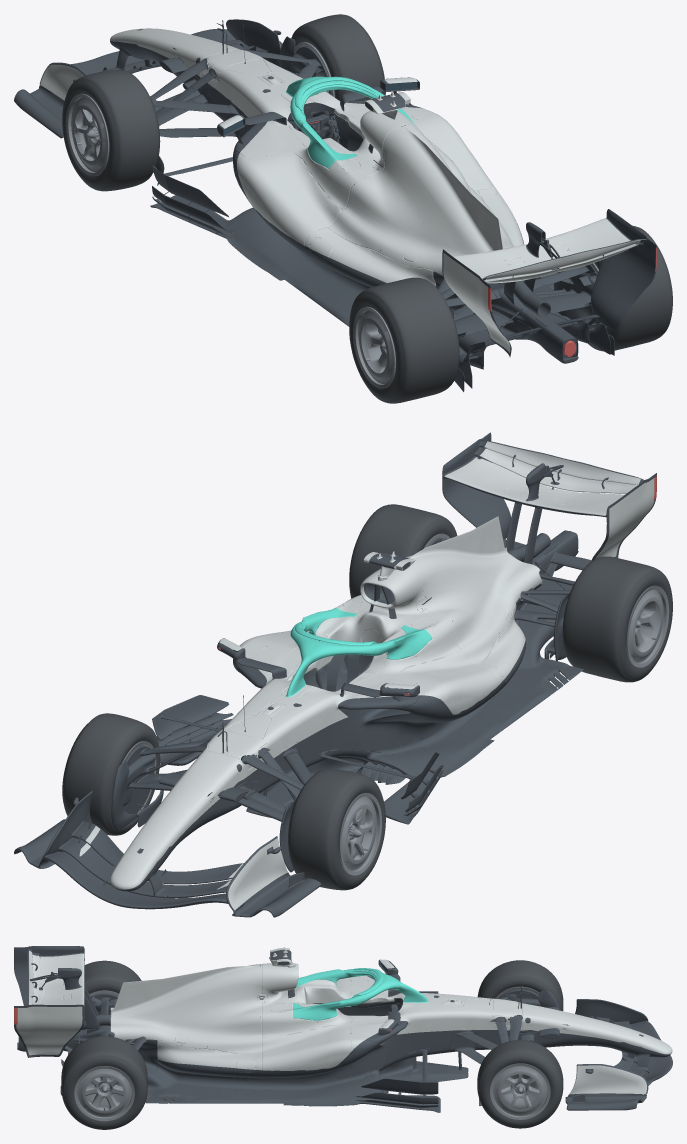
The model's file is mercedes-medium.glb.
3 views of the same model, one above another, from view 1: azimuth 30°, elevation 25°; view 2: azimuth 150°, elevation 25°; view 3: azimuth 270°, elevation 25° (orthographic). The views are drawn at different scales.
Visible parts, largest first — view 1: body, wheel2, wheel0, rearFlaps, frontFlaps, wheel1, wheel3, frontWing, rearWing; view 2: body, frontFlaps, wheel2, rearFlaps, wheel0, wheel1, frontWing, wheel3, rearWing; view 3: body, frontFlaps, wheel3, wheel1, rearFlaps, wheel0, frontWing, wheel2, rearWing.
Part boxes in pixels (bbox=[...]): body: bbox=[150, 20, 649, 391]; wheel2: bbox=[349, 277, 459, 403]; wheel0: bbox=[62, 70, 160, 191]; rearFlaps: bbox=[442, 209, 656, 312]; frontFlaps: bbox=[29, 19, 281, 100]; wheel1: bbox=[291, 14, 385, 101]; wheel3: bbox=[588, 225, 672, 351]; frontWing: bbox=[14, 41, 282, 138]; rearWing: bbox=[444, 251, 655, 321]; body: bbox=[111, 490, 649, 872]; frontFlaps: bbox=[24, 781, 304, 911]; wheel2: bbox=[562, 556, 672, 682]; rearFlaps: bbox=[442, 432, 656, 535]; wheel0: bbox=[288, 769, 385, 890]; wheel1: bbox=[62, 713, 160, 835]; frontWing: bbox=[14, 819, 321, 917]; wheel3: bbox=[349, 504, 457, 598]; rearWing: bbox=[444, 461, 655, 542]; body: bbox=[16, 947, 569, 1112]; frontFlaps: bbox=[562, 999, 672, 1101]; wheel3: bbox=[61, 1036, 147, 1129]; wheel1: bbox=[477, 1040, 563, 1128]; rearFlaps: bbox=[14, 946, 88, 1025]; wheel0: bbox=[477, 960, 563, 1010]; frontWing: bbox=[565, 1055, 672, 1110]; wheel2: bbox=[84, 960, 141, 996]; rearWing: bbox=[14, 966, 89, 1032].
Bounding box in the file's own units: 1.9 × 1.2 × 5.39.
